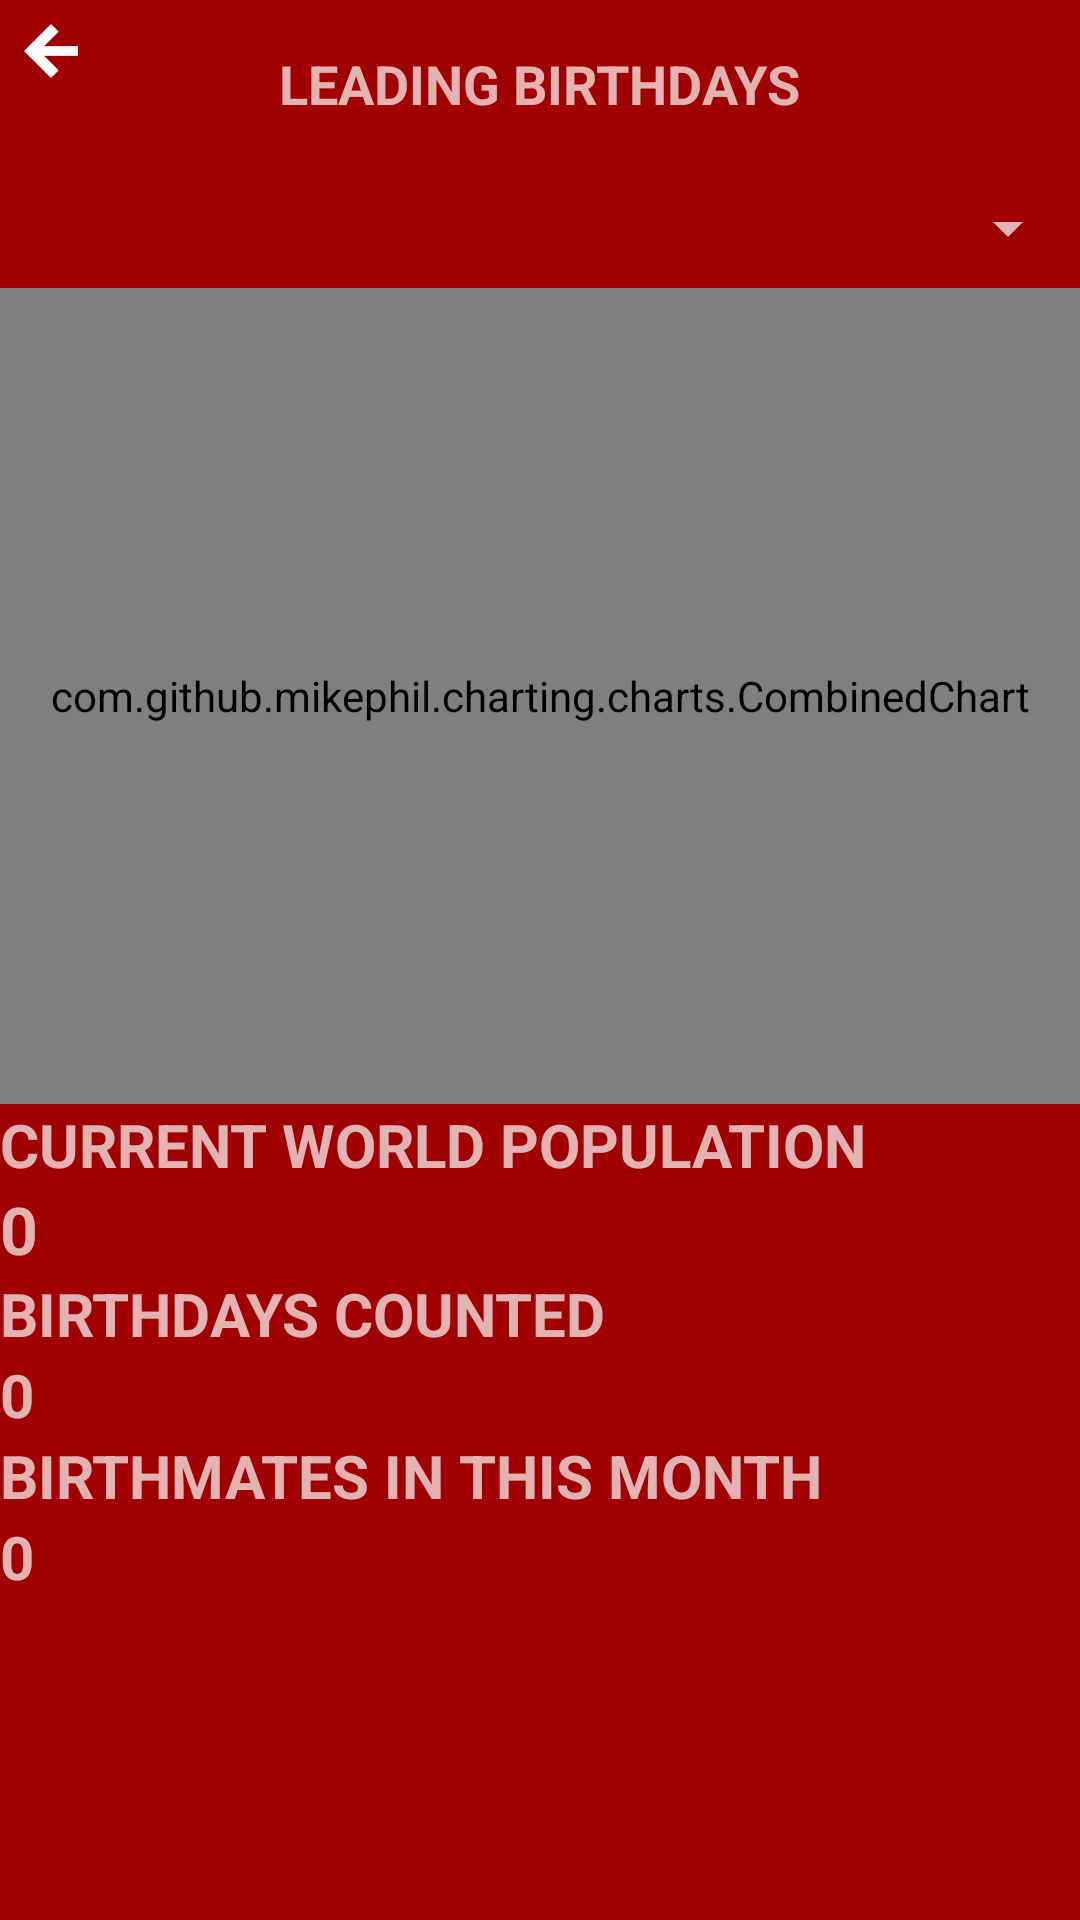

Icons on this 1080w x 1920h Android screen, each with its box as (x1, y1, x2, y2):
arrow left: (24, 24, 78, 78)
